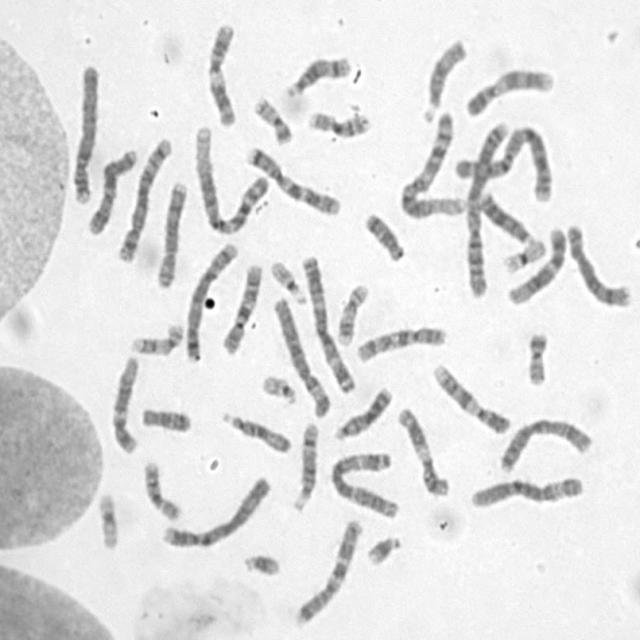A1: (195, 125, 273, 236), (400, 111, 471, 221)
A2: (462, 120, 511, 301), (454, 126, 554, 205)
A3: (302, 255, 357, 394), (329, 449, 402, 519)
B4: (161, 476, 272, 550), (70, 65, 101, 207)
B5: (117, 138, 172, 267), (182, 242, 238, 364)
C10: (220, 262, 266, 355), (357, 327, 450, 366)
C11: (396, 406, 452, 498), (205, 23, 236, 129)
C12: (508, 227, 567, 305), (110, 354, 143, 456)
C6: (272, 296, 332, 420), (468, 474, 588, 510)
C7: (293, 516, 364, 627), (248, 146, 344, 216)
C8: (566, 221, 631, 309), (154, 181, 190, 289)
C9: (434, 362, 511, 434), (464, 70, 556, 119)
D13: (333, 386, 393, 441), (478, 192, 536, 248)
D14: (284, 56, 354, 98), (291, 422, 321, 514)
D15: (420, 39, 469, 125), (220, 408, 292, 454)
E16: (141, 461, 183, 524), (309, 108, 374, 142)
E17: (336, 284, 370, 347), (129, 322, 187, 356)
E18: (364, 210, 408, 264), (141, 407, 193, 438)
F19: (501, 238, 546, 275), (94, 490, 120, 553)
F20: (252, 95, 296, 145), (524, 332, 552, 388)
G21: (362, 533, 404, 567), (244, 552, 286, 582)
G22: (270, 260, 308, 306), (262, 370, 300, 406)
X: (497, 415, 596, 472), (87, 147, 140, 237)
